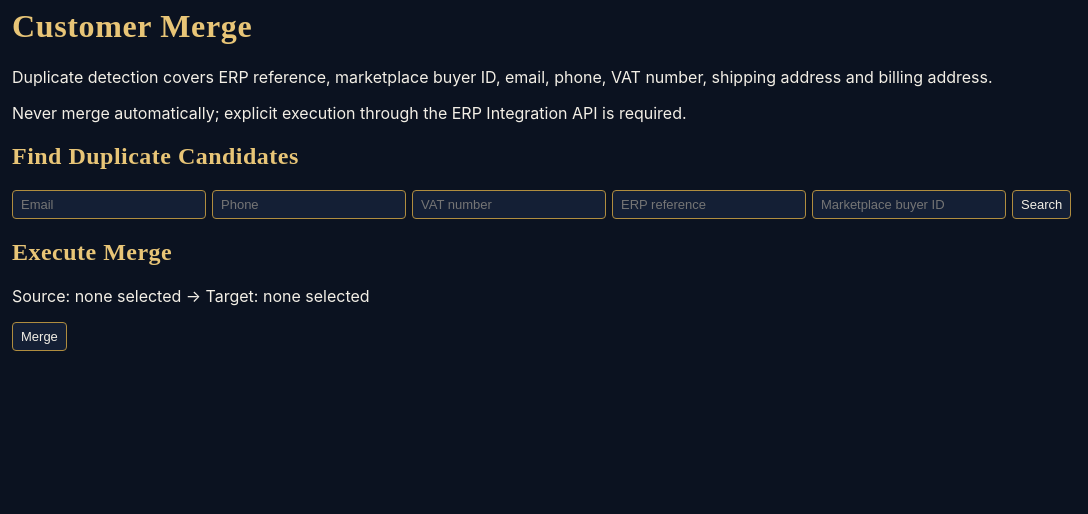
it: Customer Merge page (Sprint 61B) › renders candidates with their visible match reasons
This screenshot has width=1088, height=514.
In the field with placeholder "Email": (109, 204) left=12, top=190, right=206, bottom=219, type "ada@x.test"
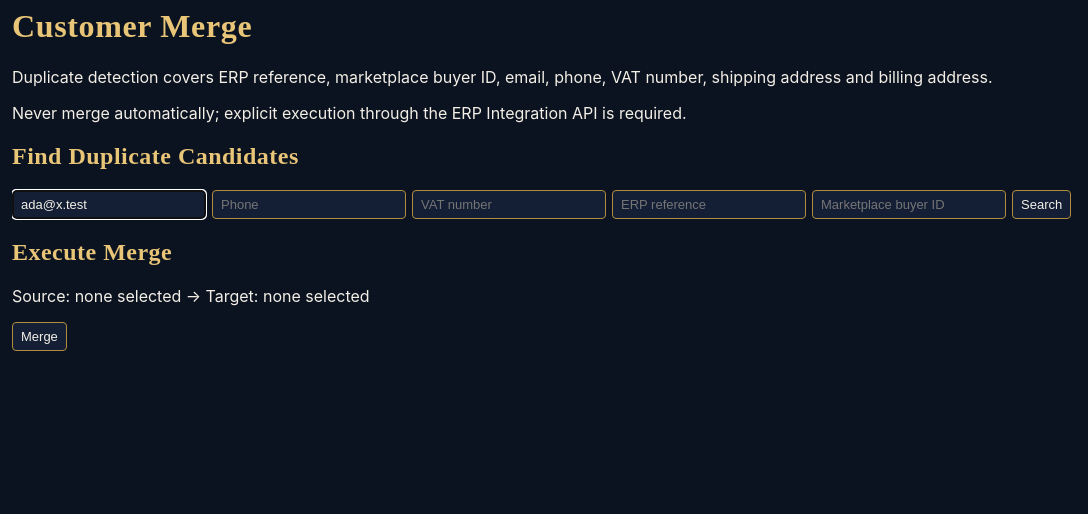
Click the button "Search": (1042, 204) left=1012, top=190, right=1071, bottom=219
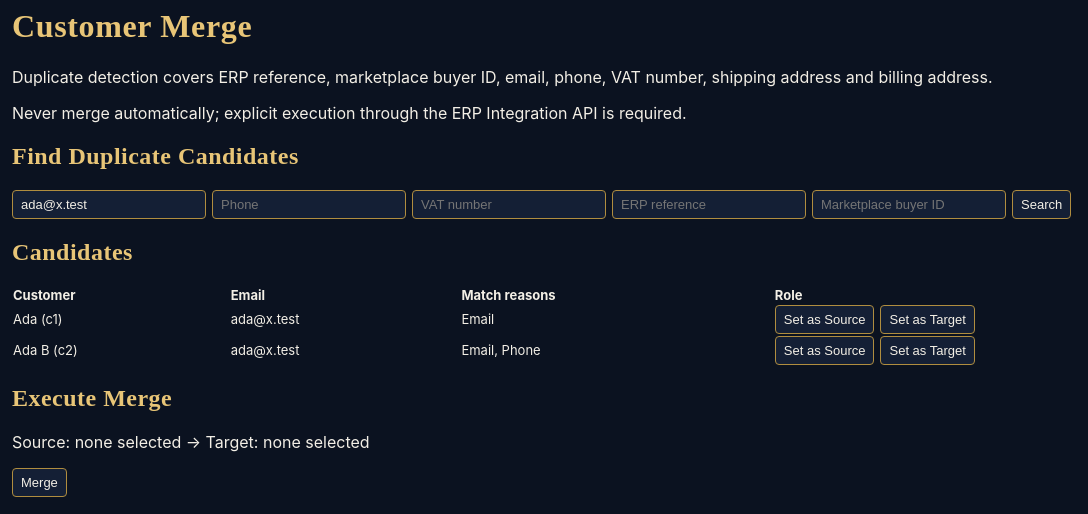
Result: the text "Ada (c1)" is shown at left=12, top=304, right=230, bottom=334
Result: the text "Ada B (c2)" is shown at left=12, top=334, right=230, bottom=366
Result: the cell "Email" is shown at left=460, top=304, right=774, bottom=334
